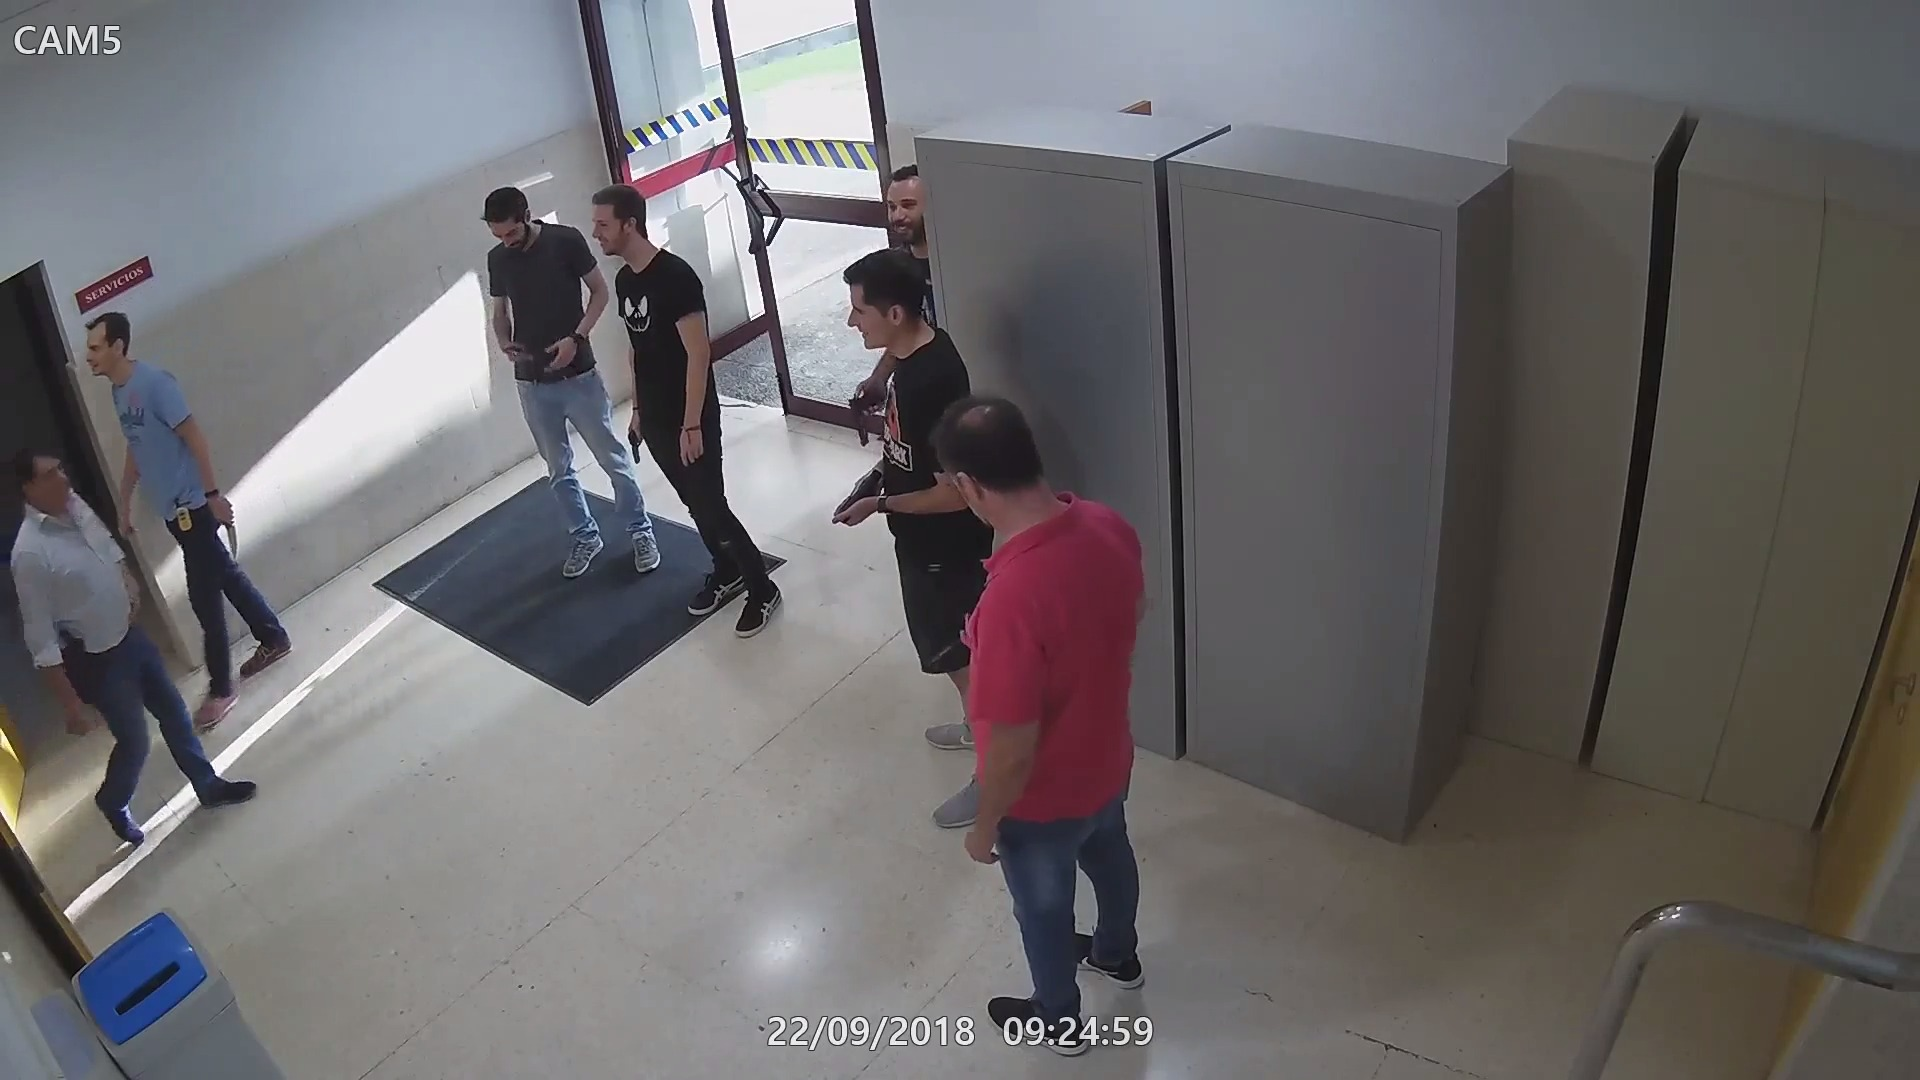Handgun: (916, 613, 978, 680), (833, 465, 889, 527), (843, 384, 893, 448), (55, 626, 95, 683), (498, 343, 564, 369), (621, 419, 649, 467)
Knife: (207, 491, 245, 560)
